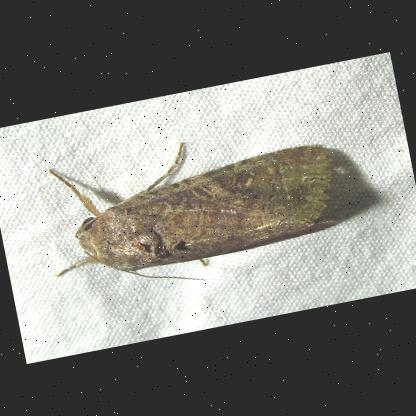Fall Armyworm Moth: (32, 112, 354, 314)
